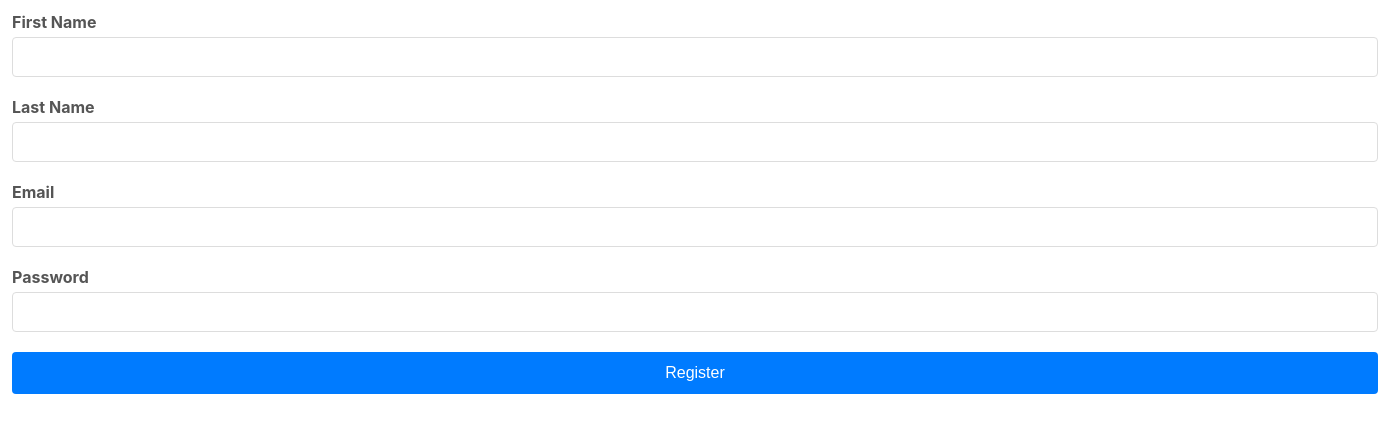
Scenario: RegisterForm › displays error message on failed registration
Step 1. Type "John" into the field labelled "First Name" → (695, 57), box [12,37,1378,77]
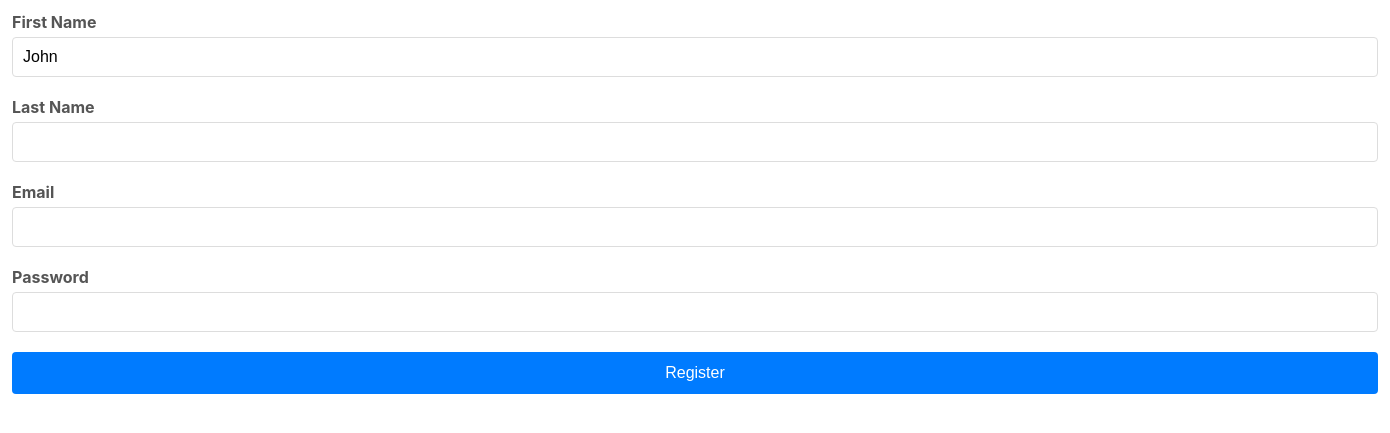
Step 2. Type "Doe" into the field labelled "Last Name" → (695, 142), box [12,122,1378,162]
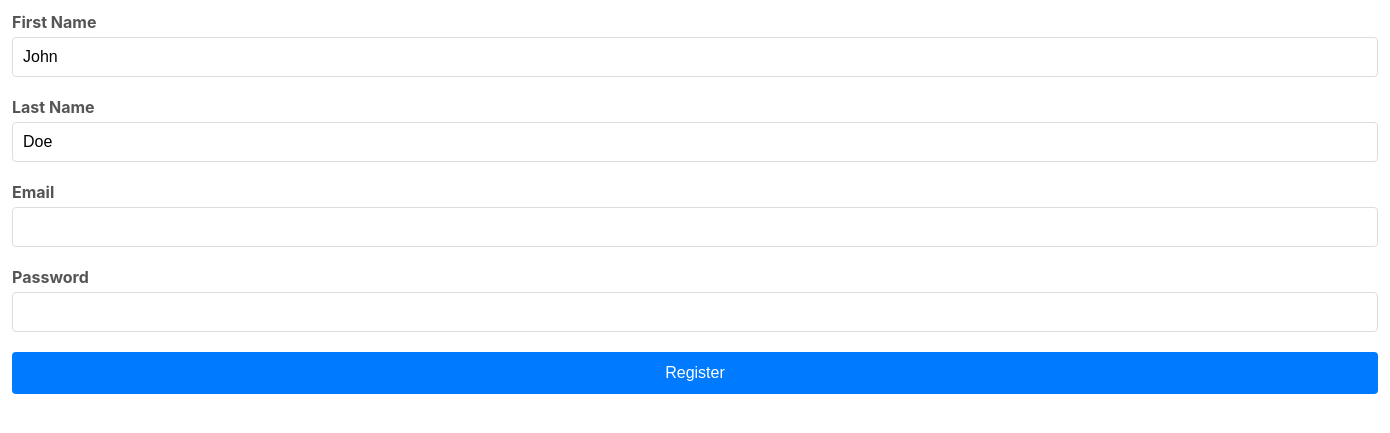
Step 3. Type "john.doe@example.com" into the field labelled "Email" → (695, 227), box [12,207,1378,247]
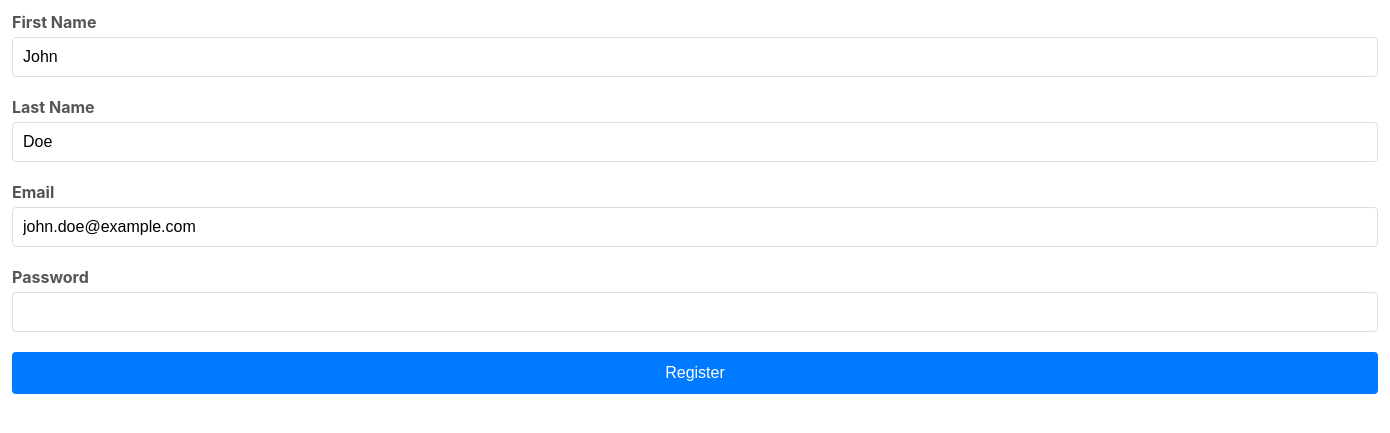
Step 4. Type "password123" into the password field labelled "Password" → (695, 312), box [12,292,1378,332]
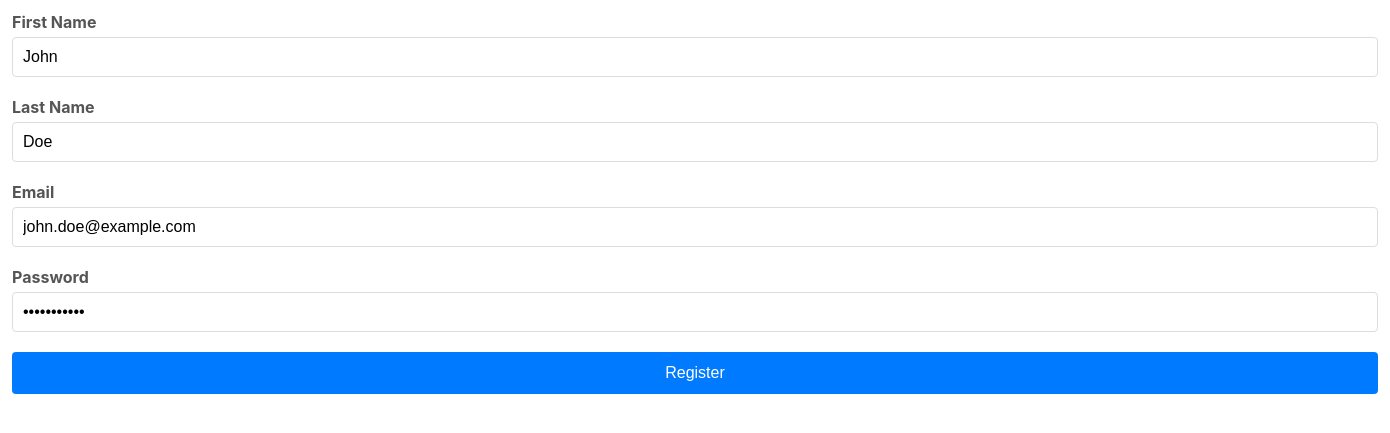
Step 5. Click the button "Register" → (695, 373), box [12,352,1378,394]
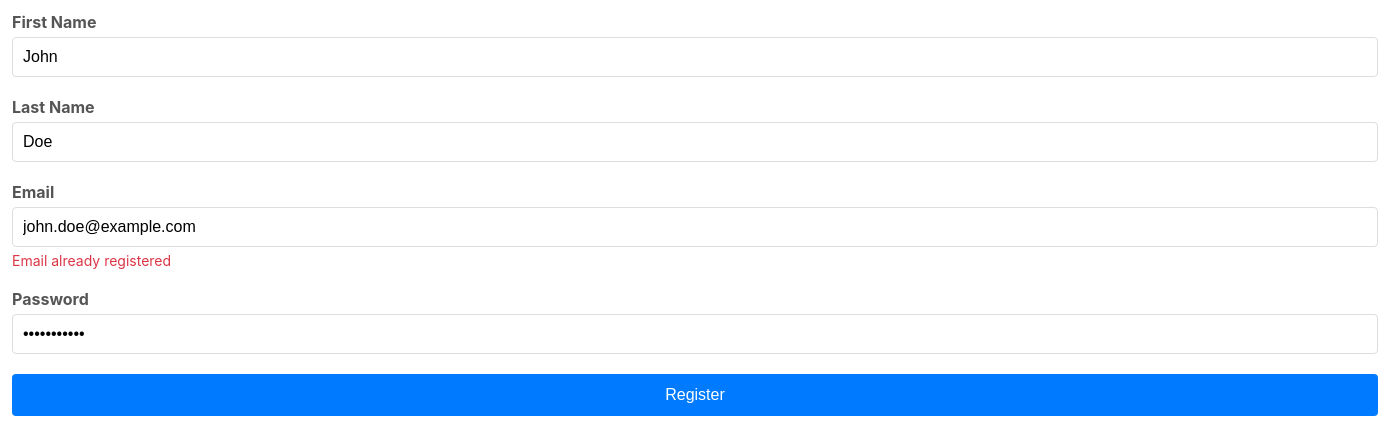
Expected: the text "Email already registered" is shown, [12,252,171,269]
